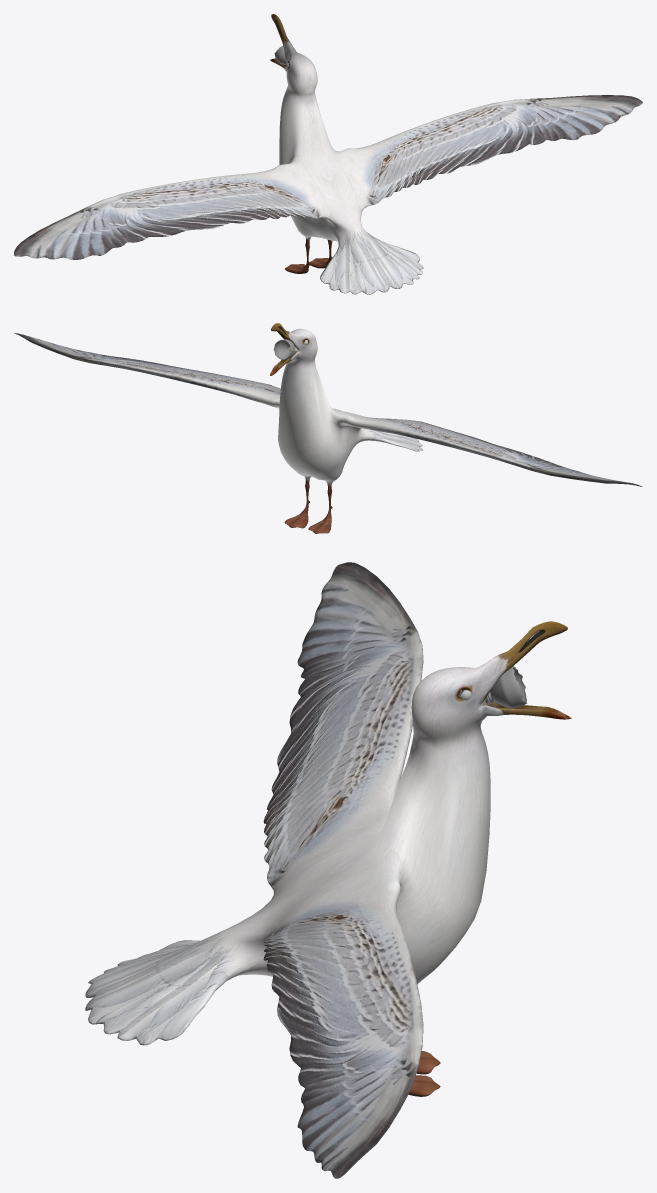
Rendered from Albatross Test1.FBX.
3 renders of one model, top to bottom at view 1: azimuth 30°, elevation 25°; view 2: azimuth 150°, elevation 25°; view 3: azimuth 270°, elevation 25°, orthographic. The views are drawn at different scales.
Parts seen in each view (by area): view 1: Albatross001; view 2: Albatross001, Water Bottle Broken001; view 3: Albatross001, Water Bottle Broken001.
Part boxes in pixels (left/top/right/bottom): Albatross001: left=14, top=14, right=642, bottom=294; Albatross001: left=14, top=323, right=642, bottom=533; Water Bottle Broken001: left=273, top=339, right=294, bottom=359; Albatross001: left=85, top=562, right=571, bottom=1178; Water Bottle Broken001: left=485, top=666, right=526, bottom=708.
Bounding box in the file's own units: 246 × 85.27 × 82.53.
